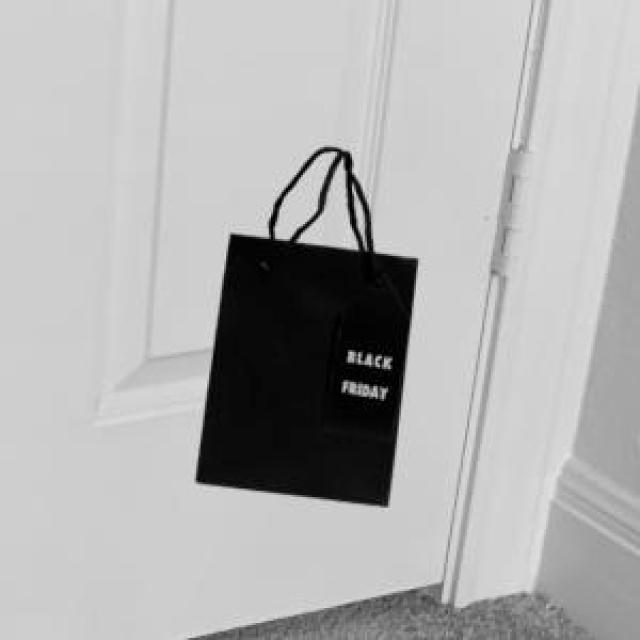paper: (192, 143, 414, 501)
